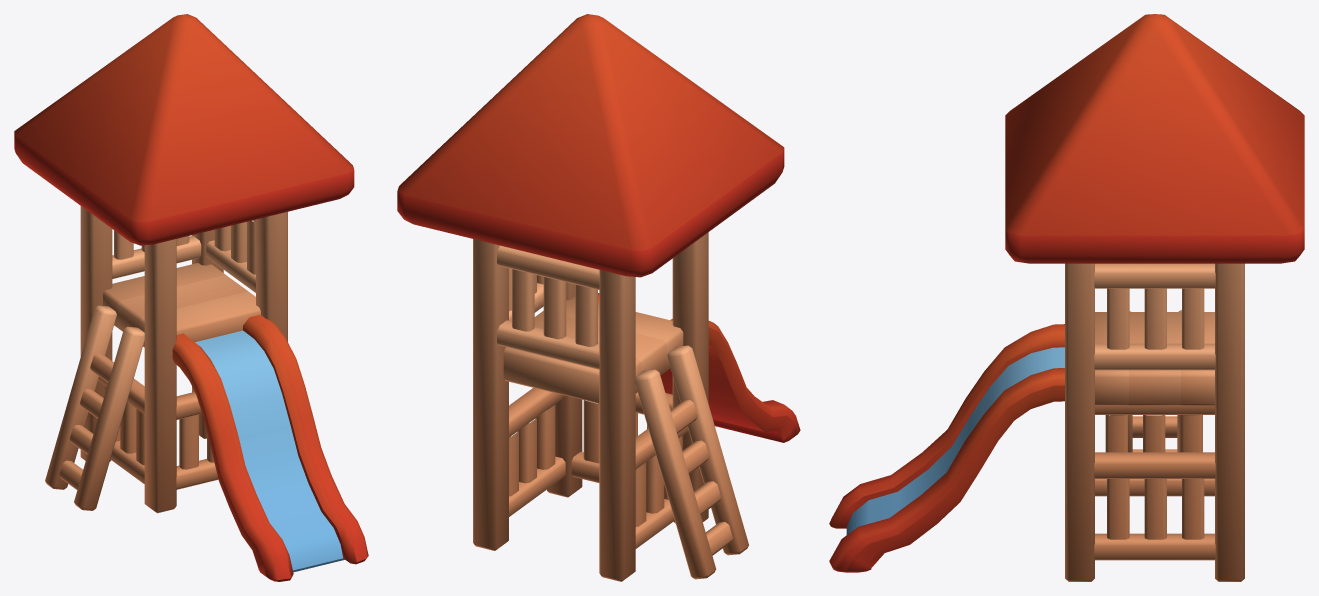
File: slide_B.glb
3 views of the same model, side by side, from view 1: azimuth 30°, elevation 25°; view 2: azimuth 150°, elevation 25°; view 3: azimuth 270°, elevation 25° (orthographic). The views are drawn at different scales.
Visible parts, largest first — view 1: slide_B; view 2: slide_B; view 3: slide_B.
Boxes of the visible parts, bbox=[...] form: slide_B: bbox=[14, 14, 368, 581]; slide_B: bbox=[397, 14, 800, 581]; slide_B: bbox=[829, 14, 1304, 581].
Bounding box in the file's own units: 4.19 × 7.84 × 6.35.
1 material, 1 textured.
